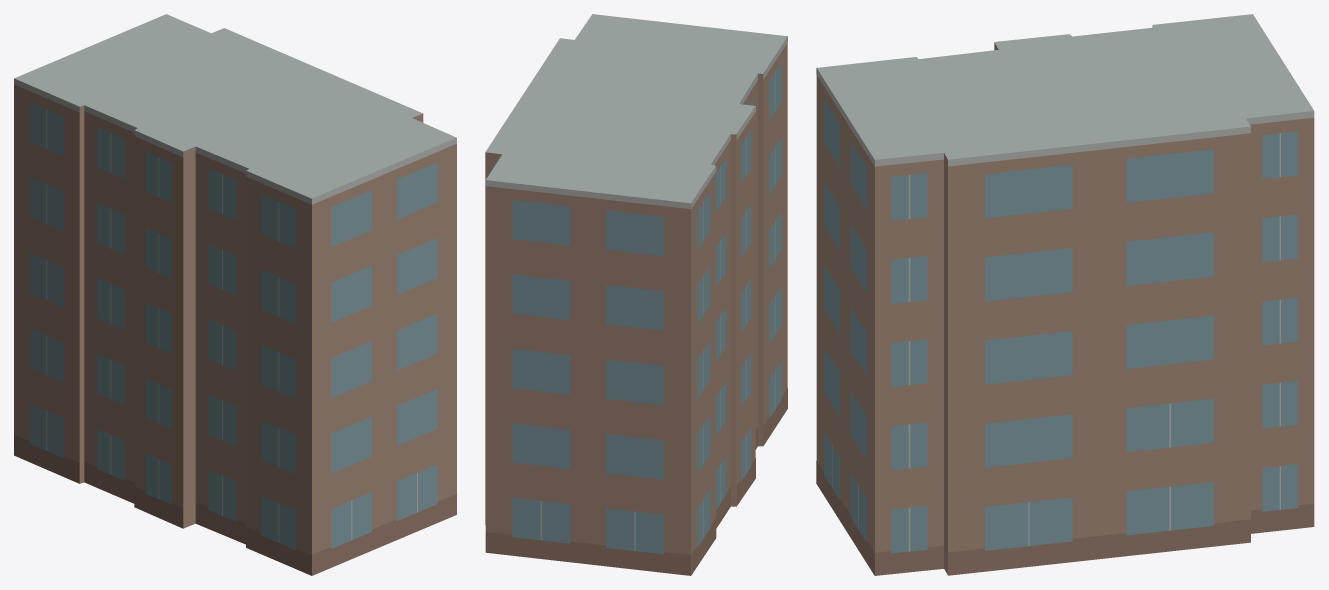
File: survey-upis-32715882.glb
3 views of the same model, side by side, from view 1: azimuth 30°, elevation 25°; view 2: azimuth 150°, elevation 25°; view 3: azimuth 270°, elevation 25° (orthographic). The views are drawn at different scales.
Parts seen in each view (by area): view 1: survey-upis-32715882.tmp; view 2: survey-upis-32715882.tmp; view 3: survey-upis-32715882.tmp.
Part boxes in pixels (bbox=[...]): survey-upis-32715882.tmp: bbox=[14, 14, 456, 575]; survey-upis-32715882.tmp: bbox=[485, 14, 787, 575]; survey-upis-32715882.tmp: bbox=[816, 14, 1314, 575].
Bounding box in the file's own units: 11.49 × 15.25 × 16.56.
